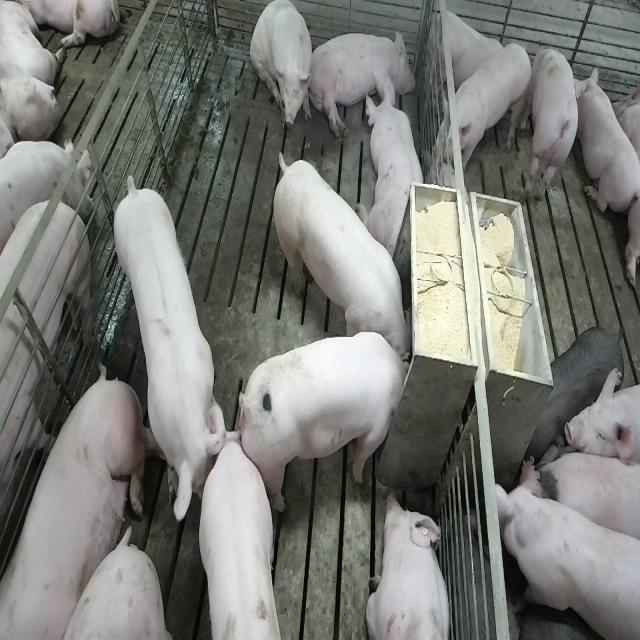Feeding: (243, 330, 420, 512), (268, 144, 411, 361)
Lateral_lying: (307, 26, 416, 140)
Sitting: (250, 2, 315, 136)
Standing: (0, 194, 95, 639), (113, 175, 229, 528), (494, 458, 638, 640), (202, 440, 288, 640), (524, 323, 626, 469), (439, 41, 534, 170), (536, 441, 640, 553), (0, 132, 94, 252), (526, 40, 581, 208), (567, 368, 640, 466)
Sternal_lying: (365, 490, 454, 640), (366, 78, 430, 257), (578, 63, 638, 215), (428, 4, 514, 95)
